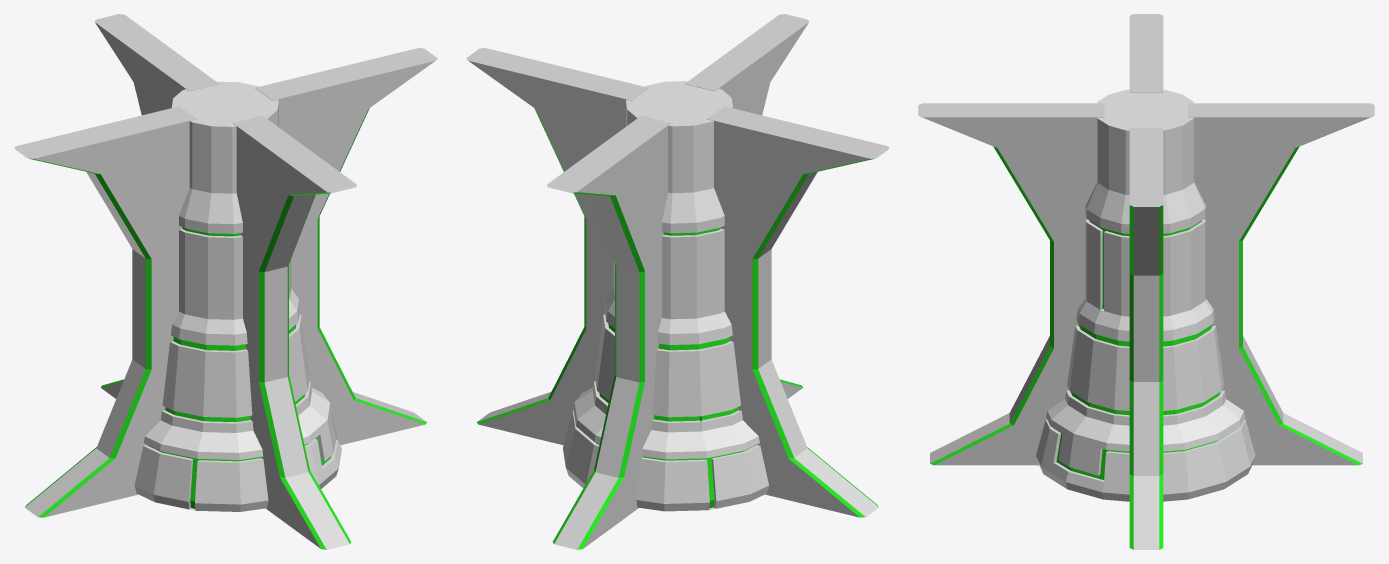
File: base_pillar.fbx
3 views of the same model, side by side, from view 1: azimuth 30°, elevation 25°; view 2: azimuth 150°, elevation 25°; view 3: azimuth 270°, elevation 25° (orthographic). The views are drawn at different scales.
Visible parts, largest first — view 1: Cylinder.006; view 2: Cylinder.006; view 3: Cylinder.006.
Part boxes in pixels (x1,y1,x2,y2): Cylinder.006: (14,14,437,549); Cylinder.006: (466,14,889,549); Cylinder.006: (918,14,1374,549).
Size of the model in its own units: 3785 by 3186 by 3785.
